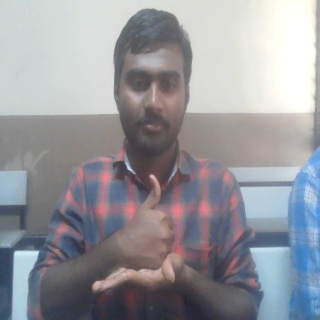Face: (111, 7, 194, 164)
Help: (89, 172, 187, 297)
